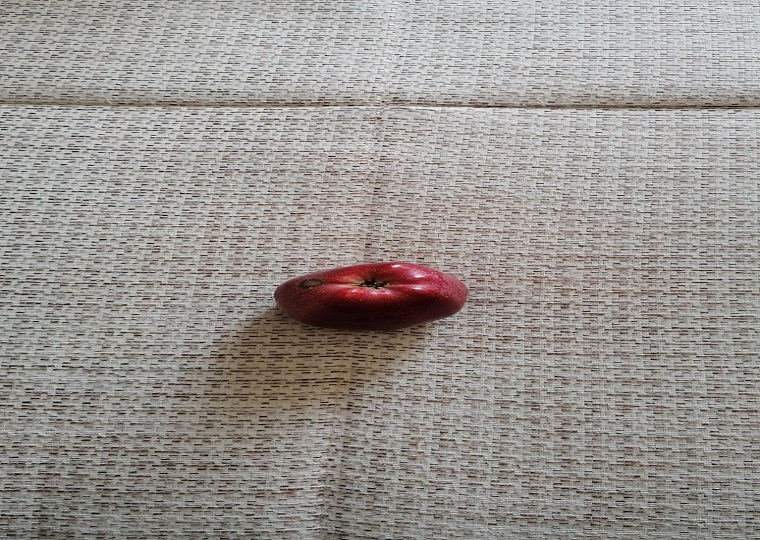elma: (272, 260, 471, 333)
